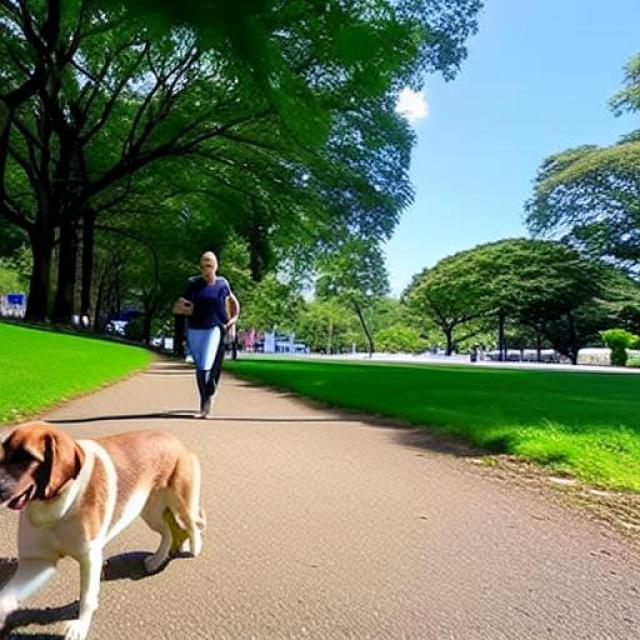Unleashed_Dog: (0, 324, 222, 640)
